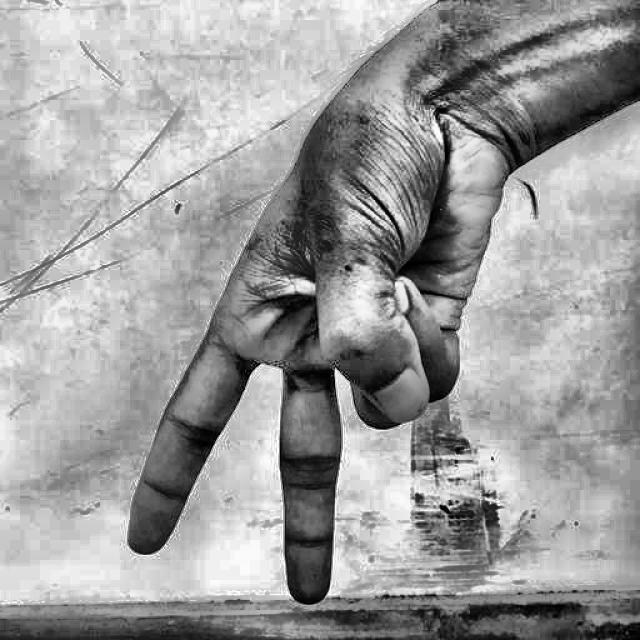Pa: (106, 48, 519, 622)
